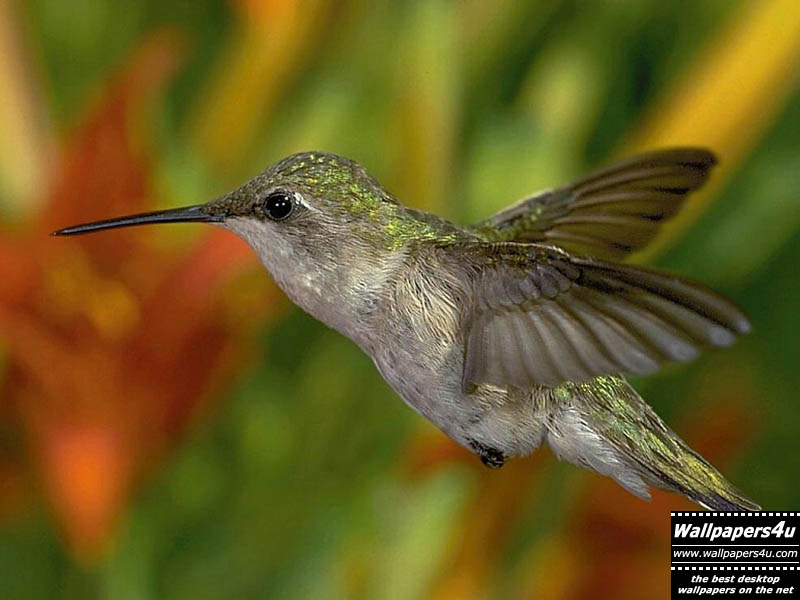bird: (48, 140, 777, 524)
